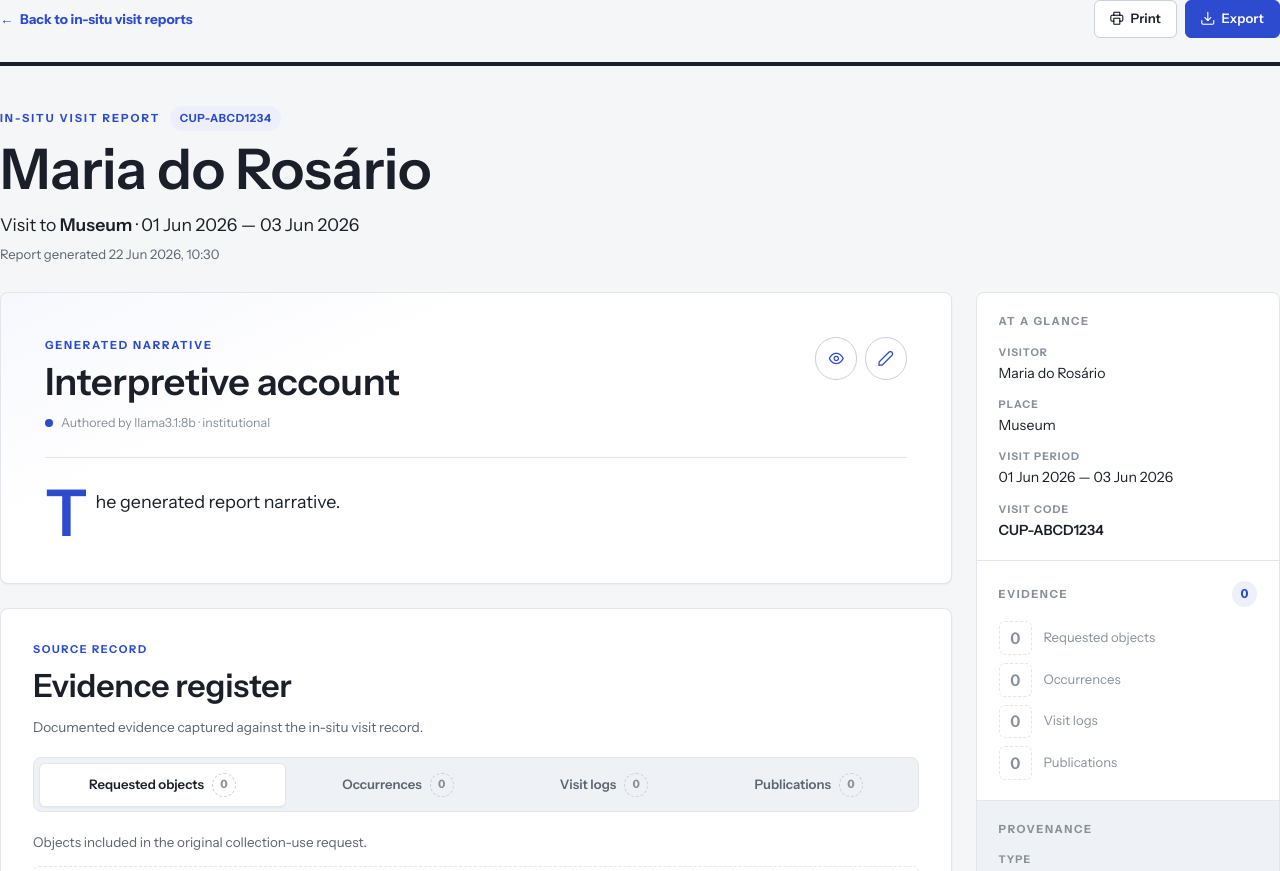
Test: InSituVisitReportDetailPageComponent › opens the CIDOC-CRM viewer and loads the current record without navigation
Step 1. Click the button named "View CIDOC-CRM data" → x=836, y=359, box [815,337,857,380]
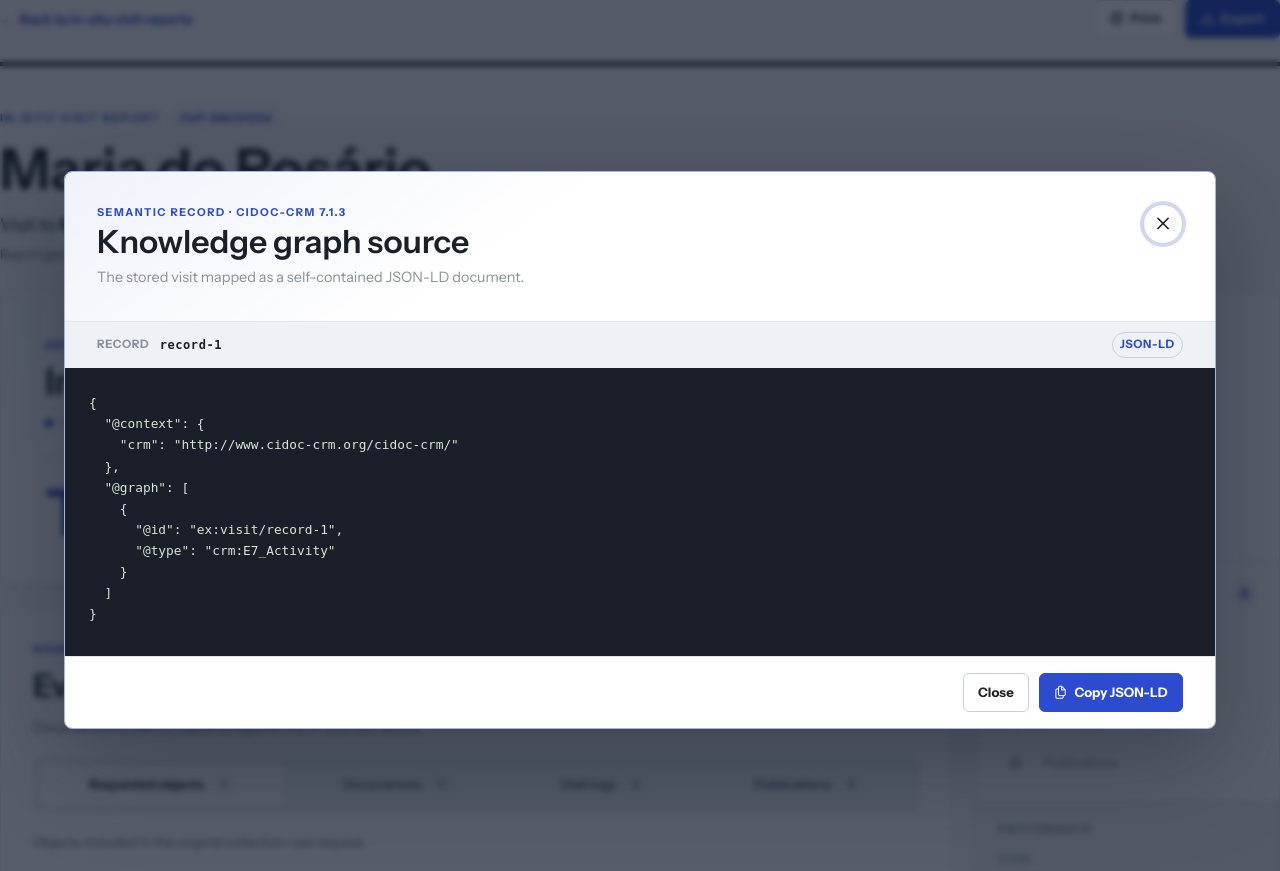
expect the text "Knowledge graph source" is shown: met, box [97,224,524,260]
expect the text "crm:E7_Activity" is shown: met, box [89,395,459,621]
